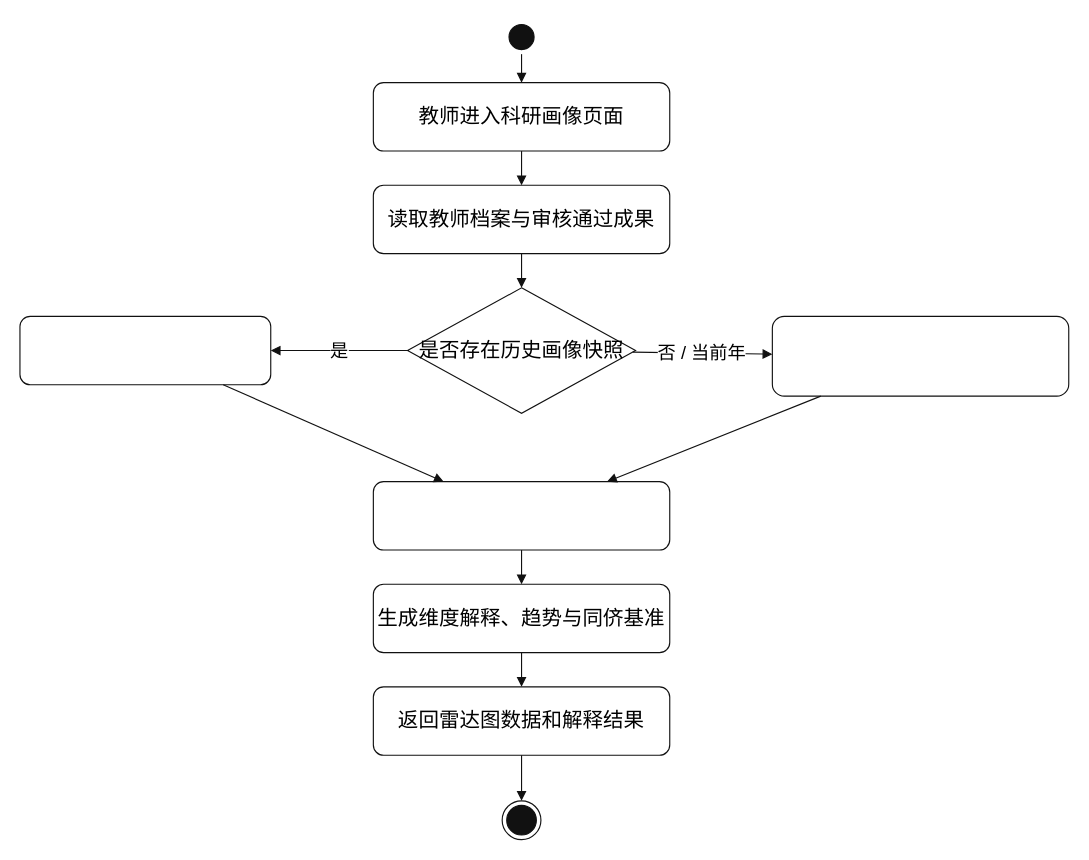
Image size: 1089x860. Some labels were removed from this diagram. Each missing label, with the box of its shape:
按六维权重计算画像得分: (372, 481, 670, 550)
读取历史快照: (19, 315, 271, 385)
运行时聚合论文、项目、知识产权等指标: (771, 315, 1069, 396)
